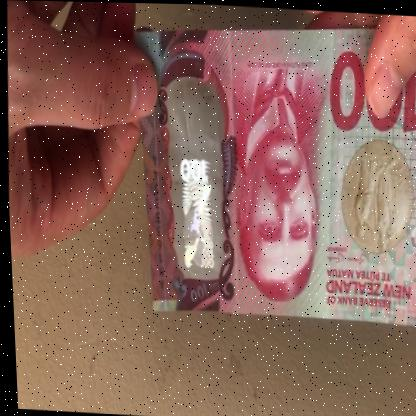100F: (167, 104, 223, 278)
